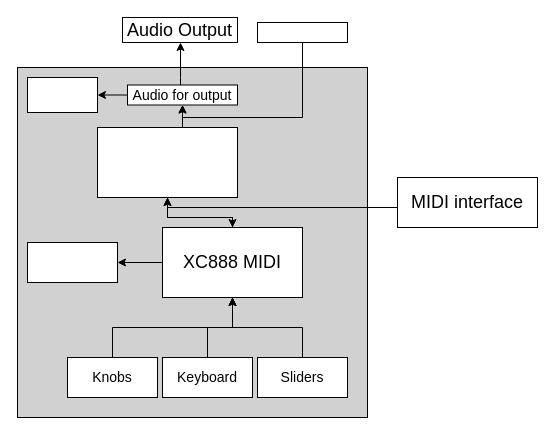
Image size: 555x435. Some labels were removed from this diagram. The centre of each missing label's shape, as x and y in pixels:
"Audio input" belongs at [302,32].
"Led's" belongs at [72,262].
"Led's on music" belongs at [62,94].
"XC888 Synth" belongs at [167,162].
